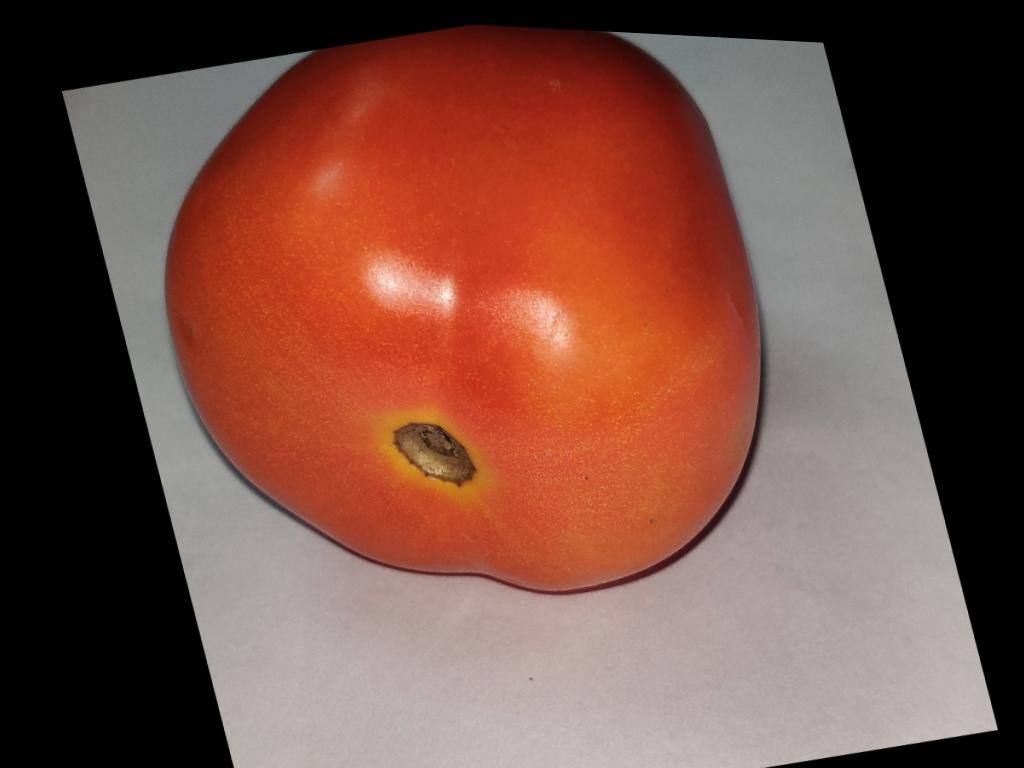tomato: (165, 24, 758, 592)
